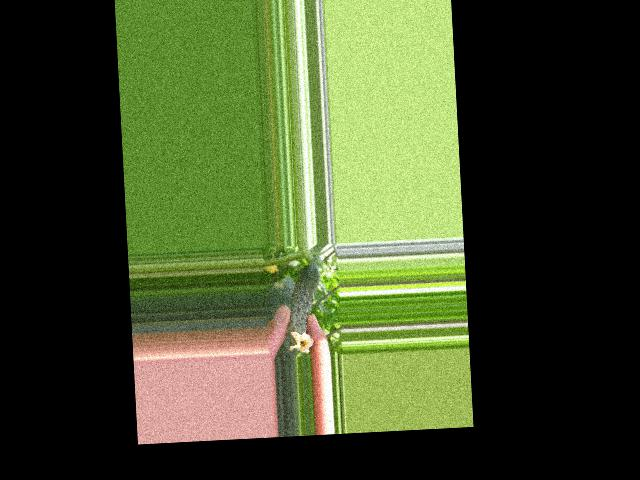cucumber: (285, 263, 323, 352)
